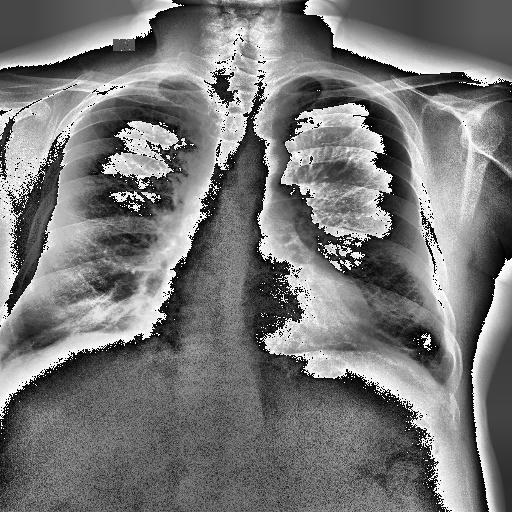10- Pleural effusion: (426, 366, 460, 400)
11- Pleural thickening: (426, 366, 460, 400)
13- Pulmonary fibrosis: (42, 283, 140, 333)
3- Cardiomegaly: (137, 273, 370, 345)
7- Lung Opacity: (13, 269, 133, 338), (50, 302, 110, 332)
